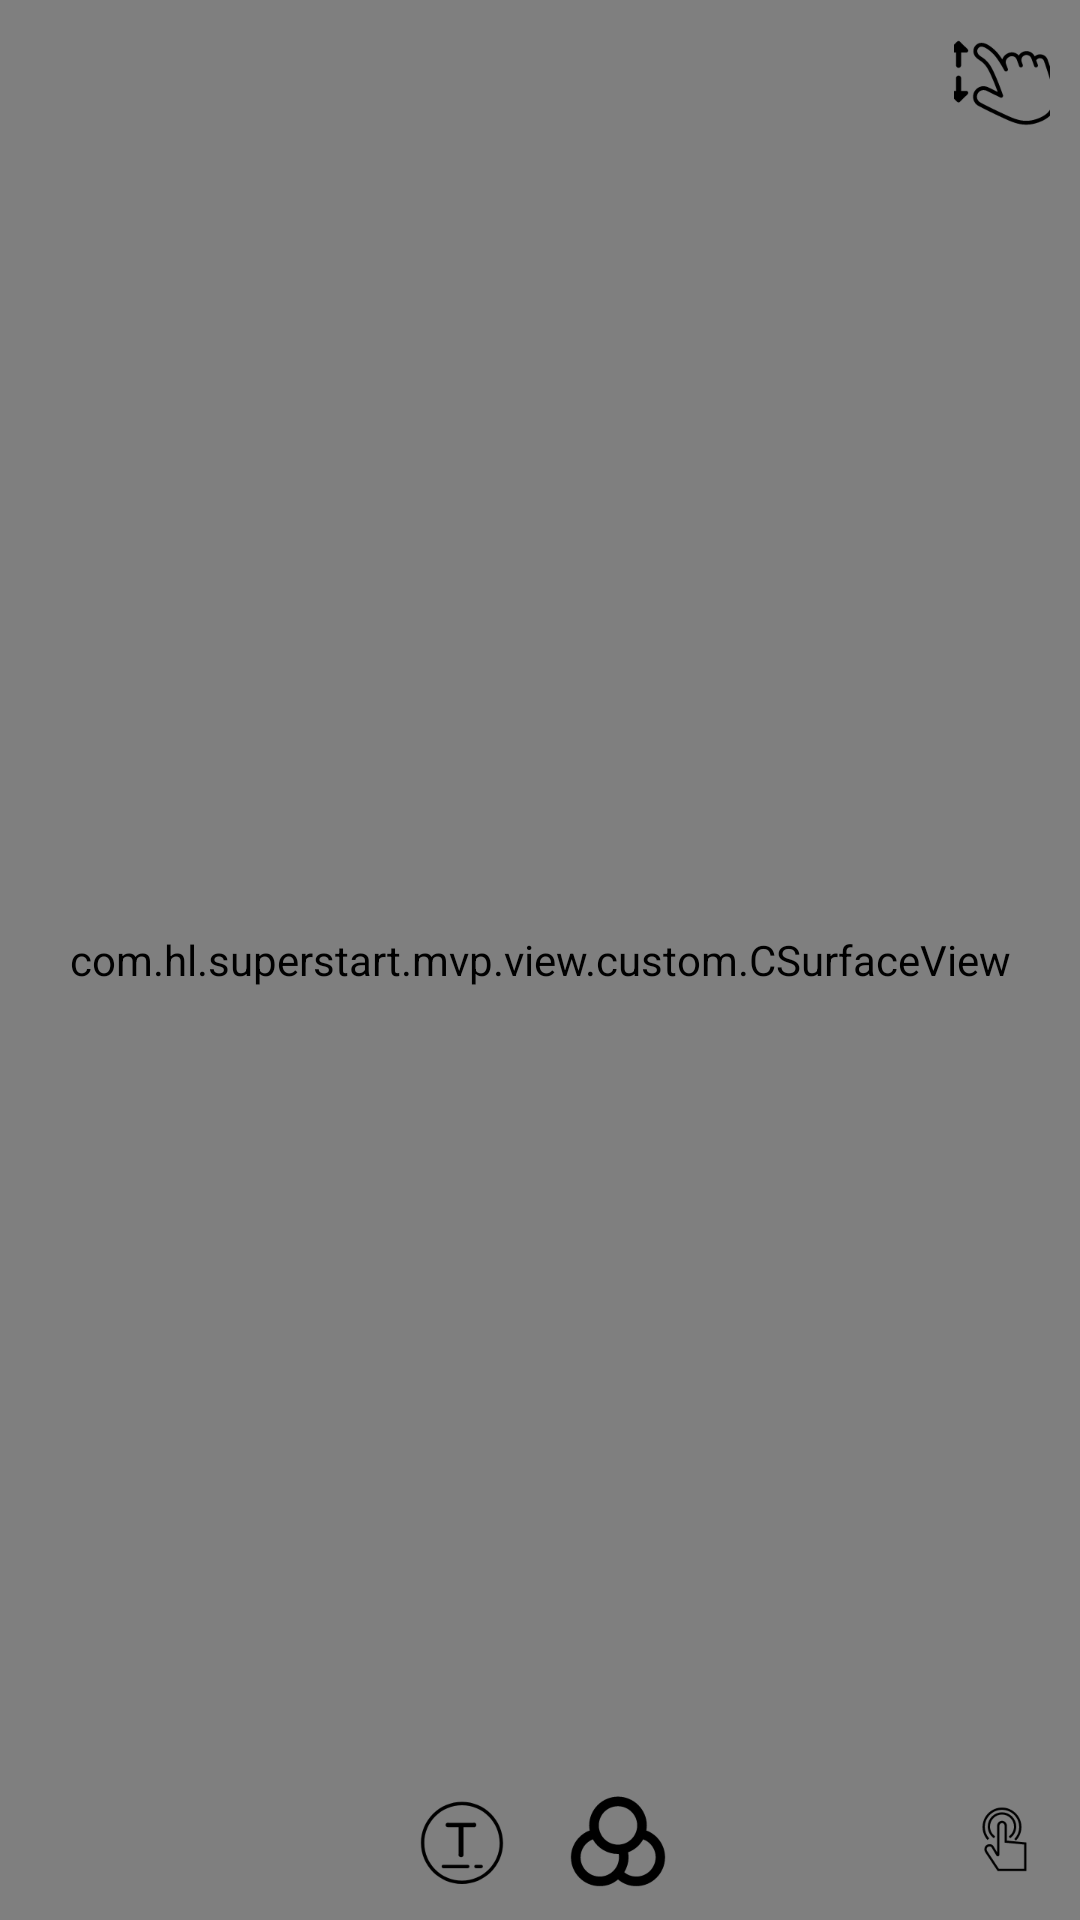

Point at icon controls on the screen. Image size 1080x1920, points as point (x, y).
text: point (462, 1842)
zoom: point (1002, 83)
